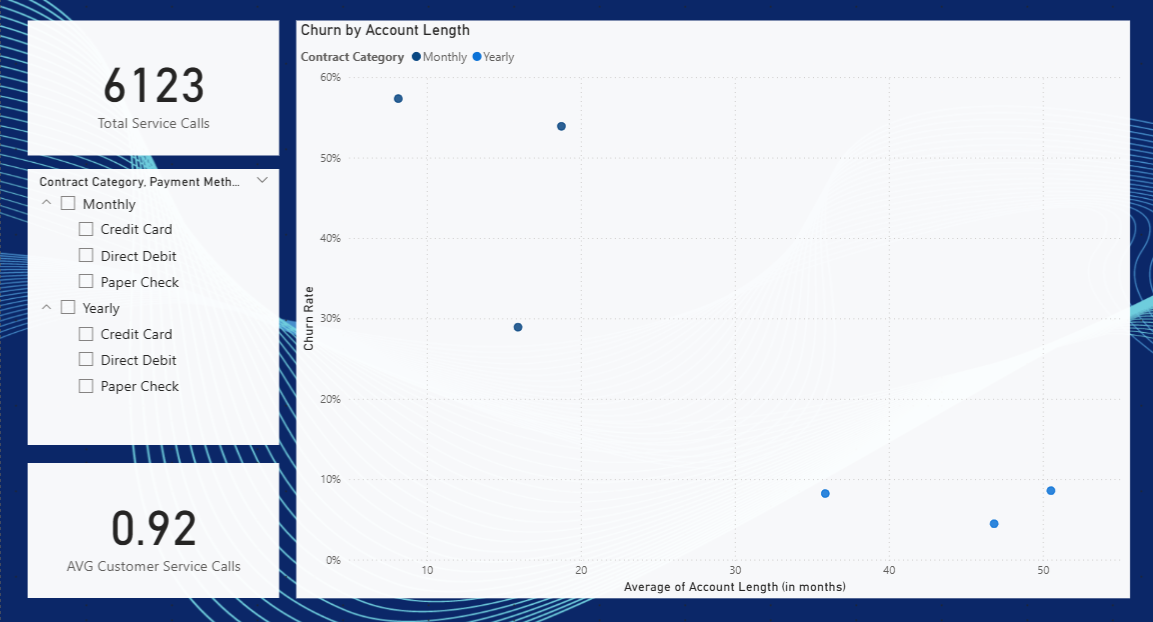

This screenshot's page, from the dashboard's own definition file:
{"tool":"powerbi","page":{"name":"Payment & Contract","canvas":[1280,720],"ordinal":13},"visuals":[{"type":"card","fields":{"Values":["Sum(Databel - Data.Customer Service Calls)"]},"box":[30.3,48.8,279.6,149.9],"z":0},{"type":"card","fields":{"Values":["Databel - Data.AVG Customer Service Calls"]},"box":[30.3,540.6,279.6,149.9],"z":1000},{"type":"scatterChart","title":"Churn by Account Length","fields":{"X":["Databel - Data.Account Length (in months)"],"Y":["Databel - Data.Churn Rate"],"Category":["Databel - Data.Payment Method"],"Series":["Databel - Data.Contract Category"]},"box":[328.4,48.8,926.3,641.7],"z":2000},{"type":"slicer","fields":{"Values":["Databel - Data.Contract Category","Databel - Data.Payment Method"]},"box":[30.3,213.9,279.6,306.5],"z":3000}]}

Visuals, with their boxes on the page's 1280x720 design canvas (x1, y1, x2, y2). These are canvas units, not pixel positions in the 1153x622 screenshot, which may show the page scaled, cropped or inside an application window:
card - Sum(Databel - Data.Customer Service Calls): BBox(30, 49, 310, 199)
card - Databel - Data.AVG Customer Service Calls: BBox(30, 541, 310, 690)
"Churn by Account Length" scatterChart: BBox(328, 49, 1255, 690)
slicer - Databel - Data.Contract Category x Databel - Data.Payment Method: BBox(30, 214, 310, 520)
